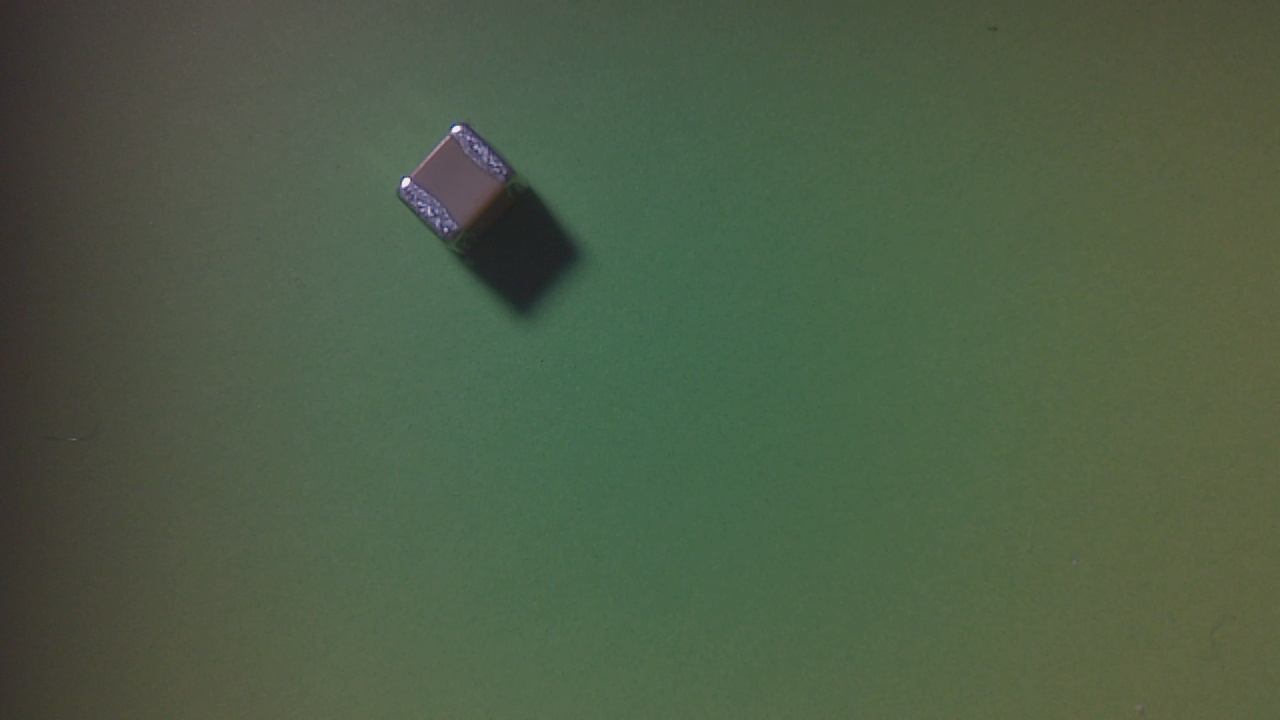Condensator: (400, 124, 519, 247)
